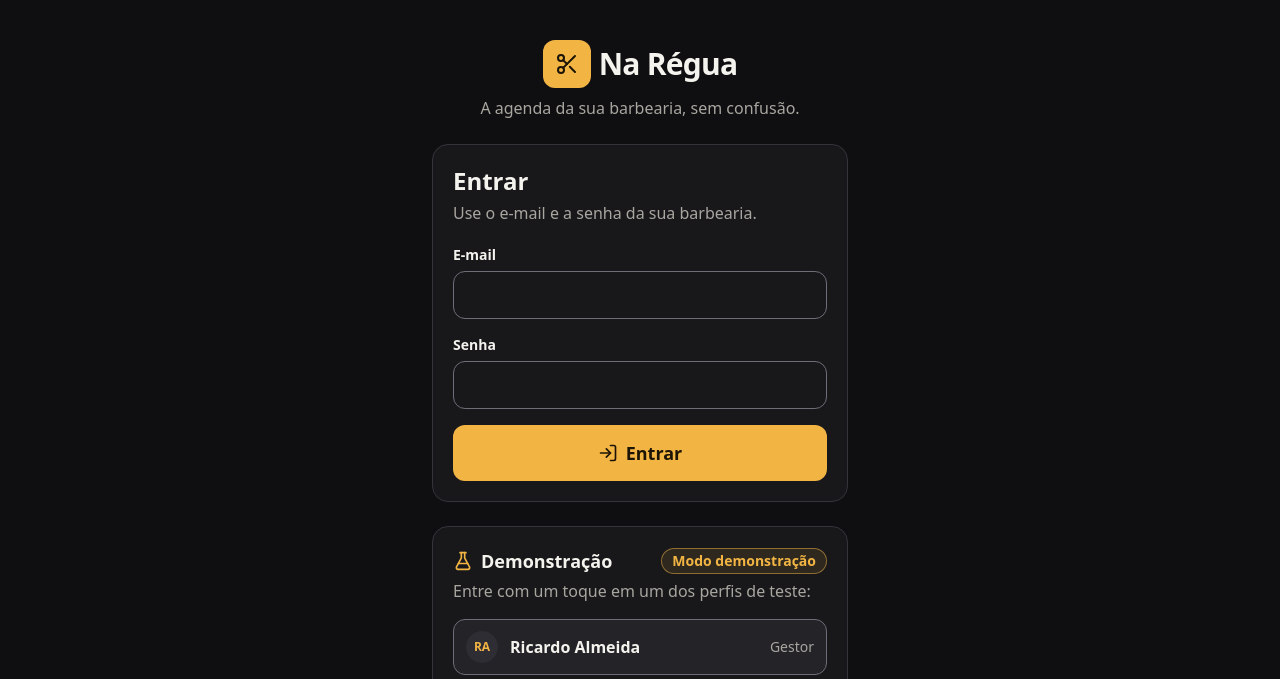
sign in › offers one-tap demo accounts
Step 1. Click the button with aria-label "Entrar como Ricardo Almeida (Gestor)" → x=640, y=647, box [453,619,827,675]
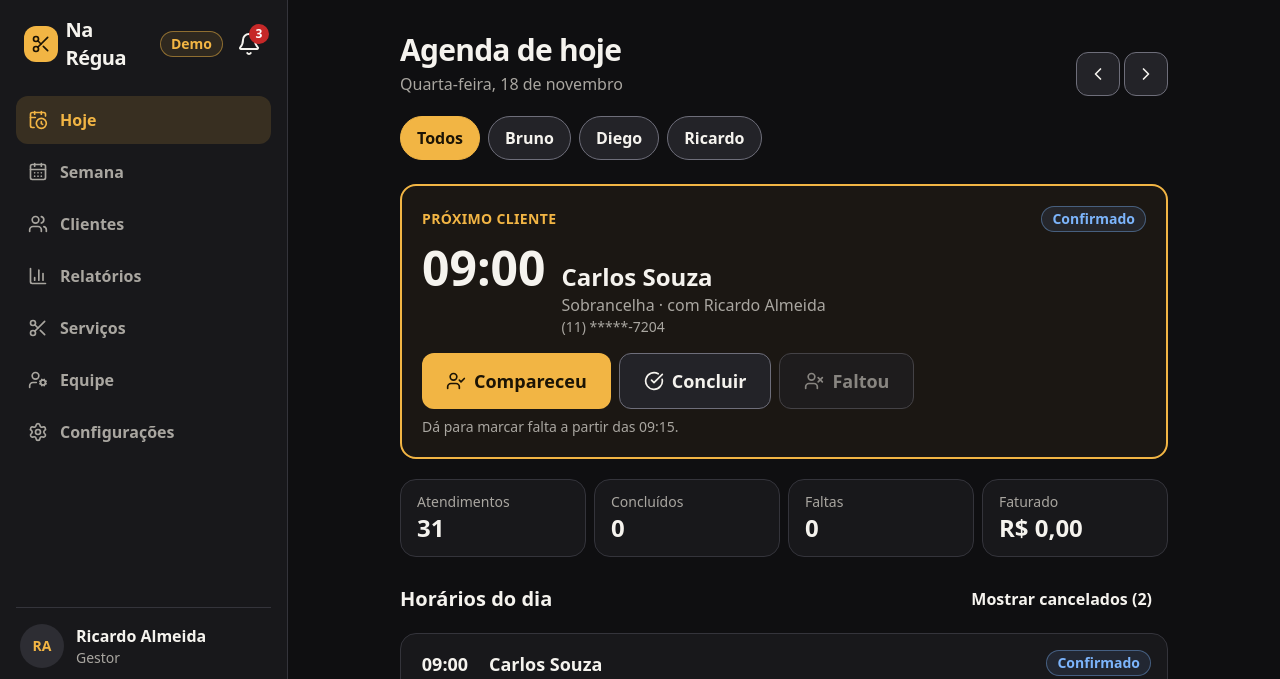
expect the heading "Agenda de hoje" is shown: met, box [400,32,623,68]
